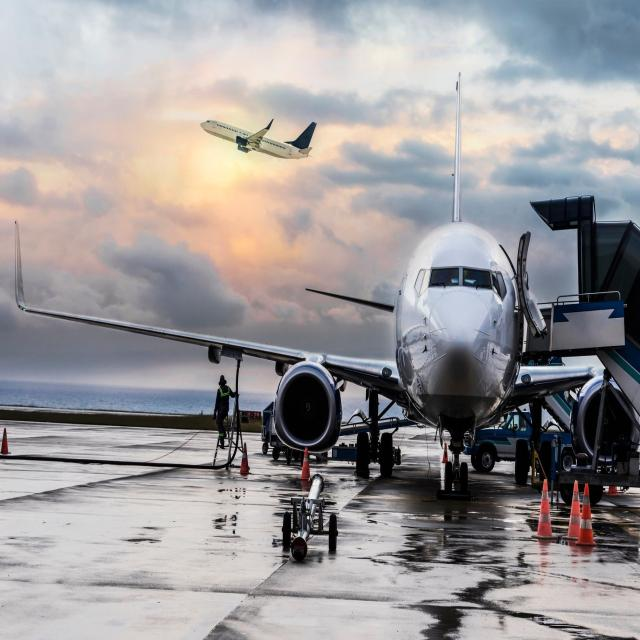plain: (13, 84, 638, 478), (201, 101, 328, 173)
